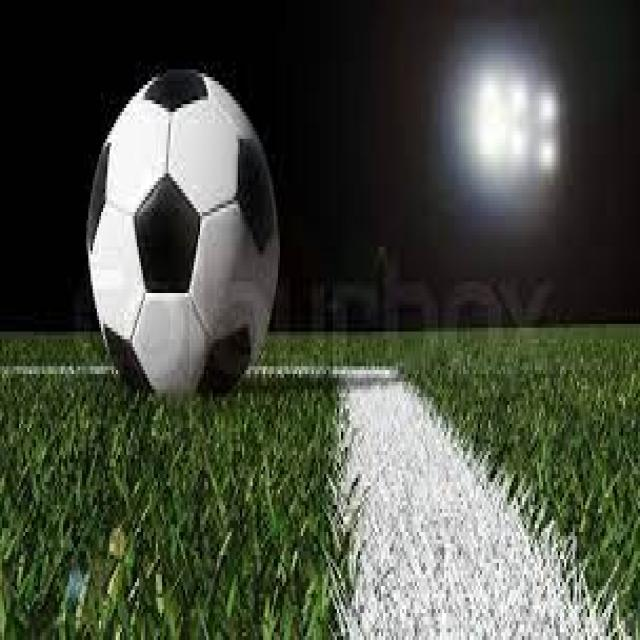ball: (87, 70, 283, 400)
